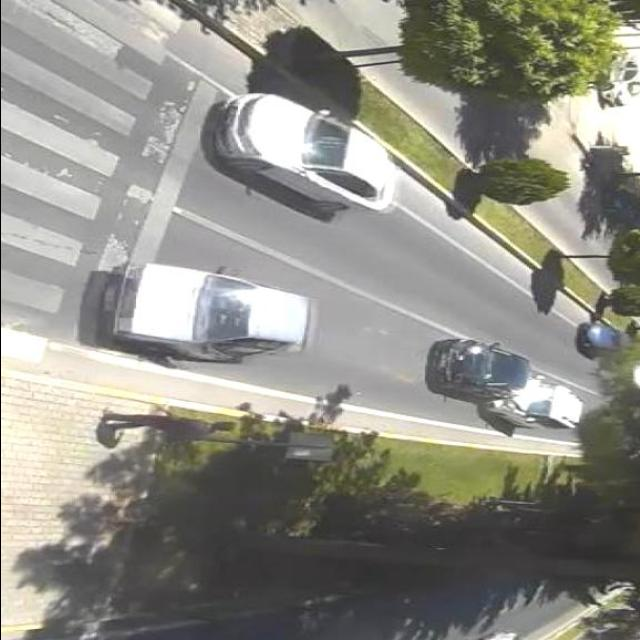accident: (426, 336, 590, 436)
